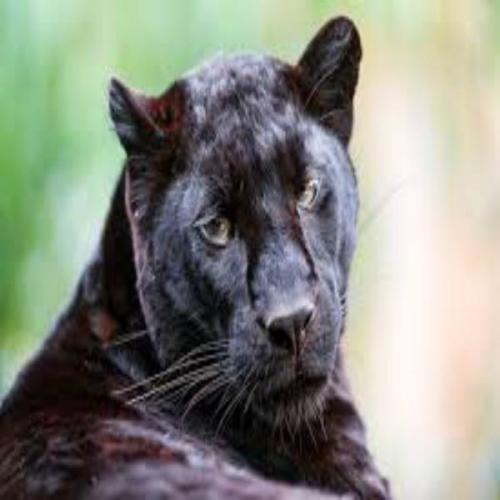panther-endangered: (0, 14, 395, 500)
